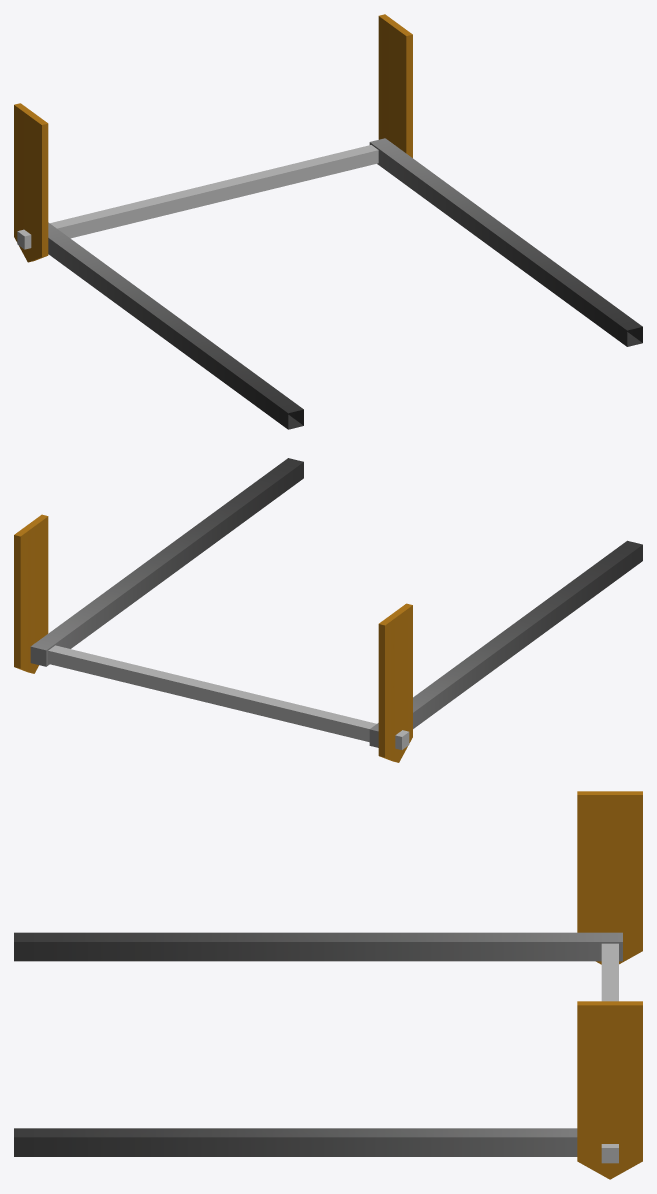
File: Cola1.obj
3 renders of one model, top to bottom at view 1: azimuth 30°, elevation 25°; view 2: azimuth 150°, elevation 25°; view 3: azimuth 270°, elevation 25°, orthographic. The views are drawn at different scales.
Parts seen in each view (by area): view 1: Cola1; view 2: Cola1; view 3: Cola1.
Part boxes in pixels (x1=…): Cola1: x1=14, y1=14, x2=642, y2=429; Cola1: x1=14, y1=458, x2=642, y2=762; Cola1: x1=14, y1=791, x2=642, y2=1179.
Size of the model in its own units: 24.06 by 8.83 by 28.82.
1 material, 1 textured.
